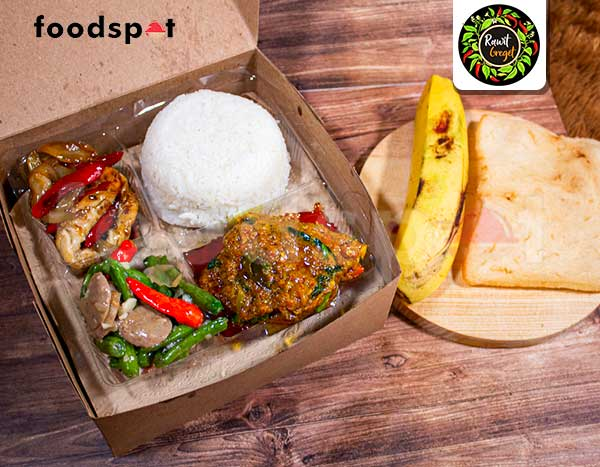daging: (228, 244, 337, 296)
kacang_legume: (44, 170, 122, 260)
makanan_berpati: (496, 133, 593, 250), (174, 117, 245, 199)
